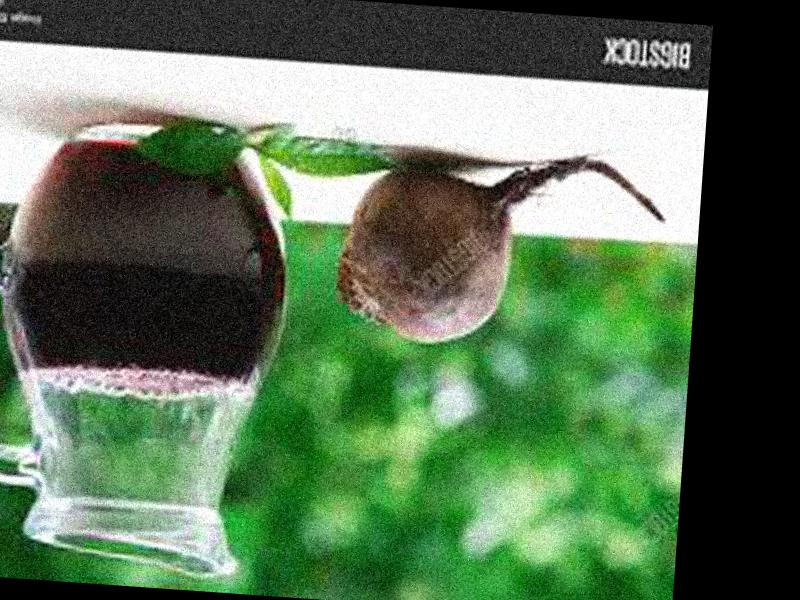Beet: (336, 139, 665, 355)
